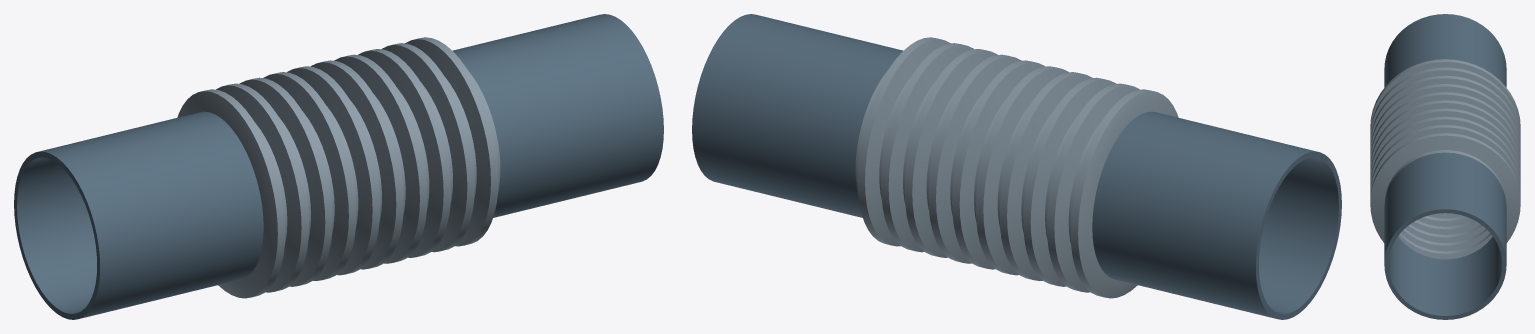
File: silf-dn100-L408-D108.glb
The picture shows the model from 3 angles, left to right: view 1: azimuth 30°, elevation 25°; view 2: azimuth 150°, elevation 25°; view 3: azimuth 270°, elevation 25°; orthographic projection. The views are drawn at different scales.
Parts seen in each view (by area): view 1: prokladka_silfon_1, patrubok_1, patrubok_2; view 2: prokladka_silfon_1, patrubok_1, patrubok_2; view 3: prokladka_silfon_1, patrubok_2, patrubok_1.
Part boxes in pixels (box(x1,y1,x2,y2)): prokladka_silfon_1: box(177, 37, 500, 298); patrubok_1: box(14, 111, 263, 319); patrubok_2: box(453, 14, 663, 217); prokladka_silfon_1: box(855, 37, 1178, 298); patrubok_1: box(1092, 111, 1341, 319); patrubok_2: box(692, 14, 902, 217); prokladka_silfon_1: box(1370, 59, 1520, 259); patrubok_2: box(1384, 152, 1506, 319); patrubok_1: box(1384, 14, 1506, 87).
Size of the model in its own units: 408 by 133 by 133.
